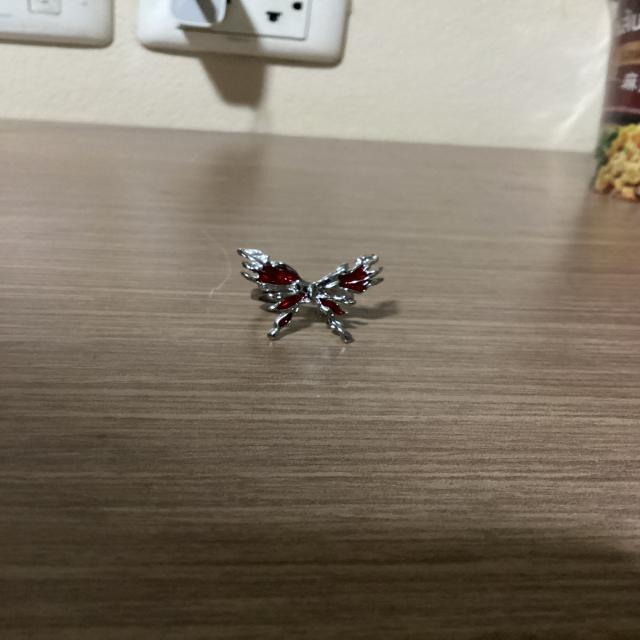Ring: (233, 243, 386, 347)
